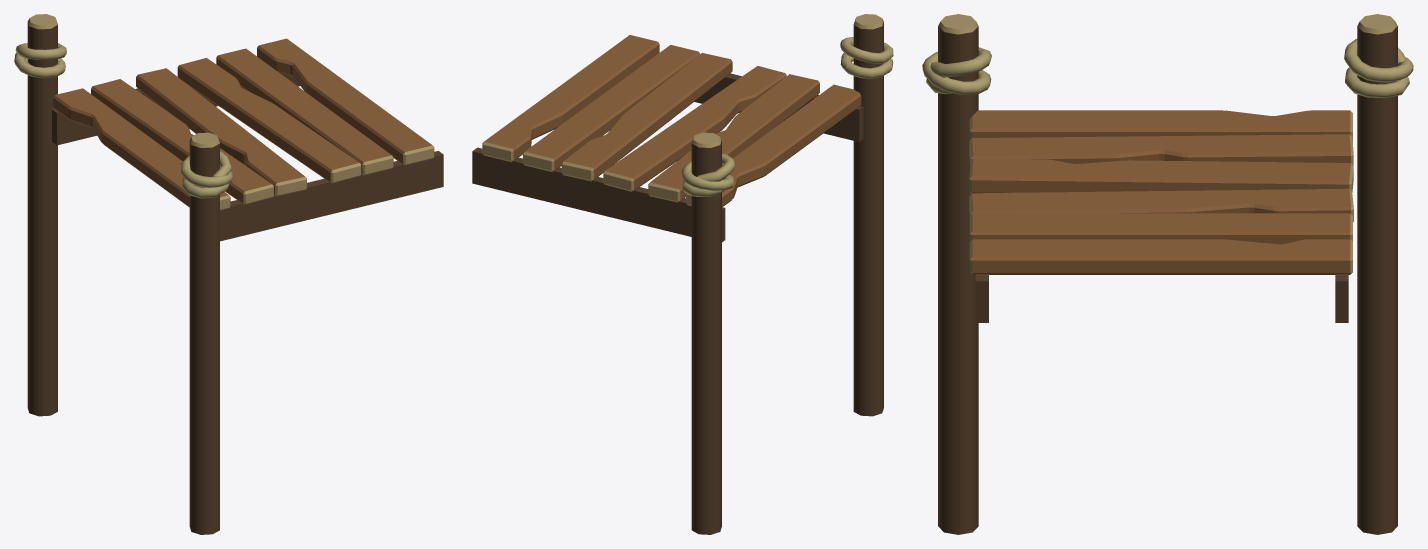
File: Dock.glb
3 renders of one model, left to right at view 1: azimuth 30°, elevation 25°; view 2: azimuth 150°, elevation 25°; view 3: azimuth 270°, elevation 25°, orthographic. The views are drawn at different scales.
Visible parts, largest first — view 1: Environment_Dock; view 2: Environment_Dock; view 3: Environment_Dock.
Part boxes in pixels (x1,y1,x2,y2): Environment_Dock: (14, 14, 443, 534); Environment_Dock: (472, 14, 893, 534); Environment_Dock: (922, 14, 1413, 534).
Bounding box in the file's own units: 2.18 × 3.01 × 2.66.
1 material, 1 textured.
